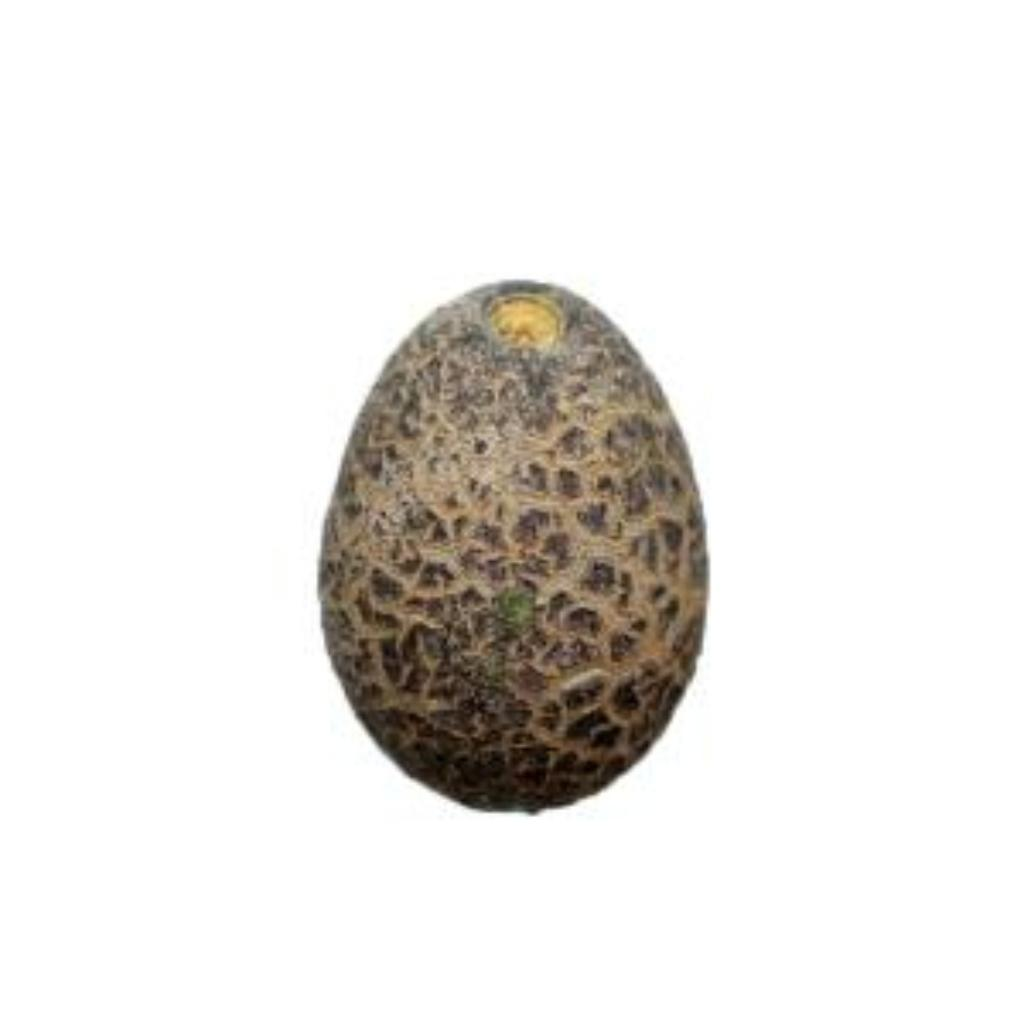cercospora: (320, 257, 718, 820)
